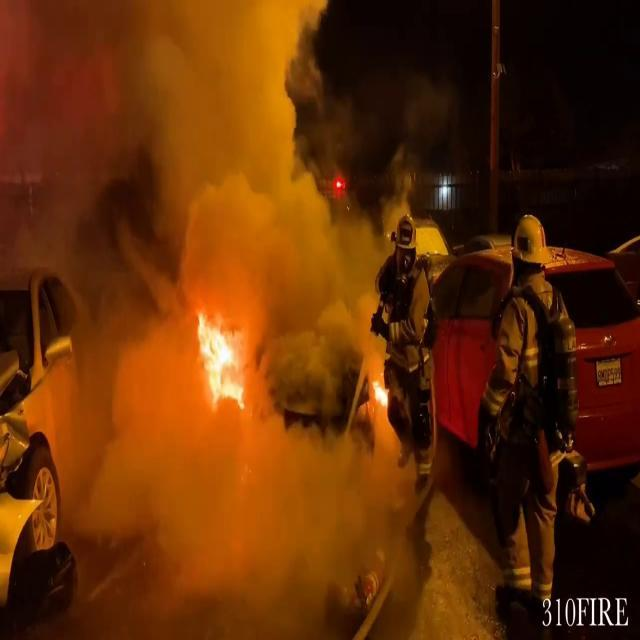Fire: (188, 304, 250, 412)
Smoke: (0, 2, 390, 597)
